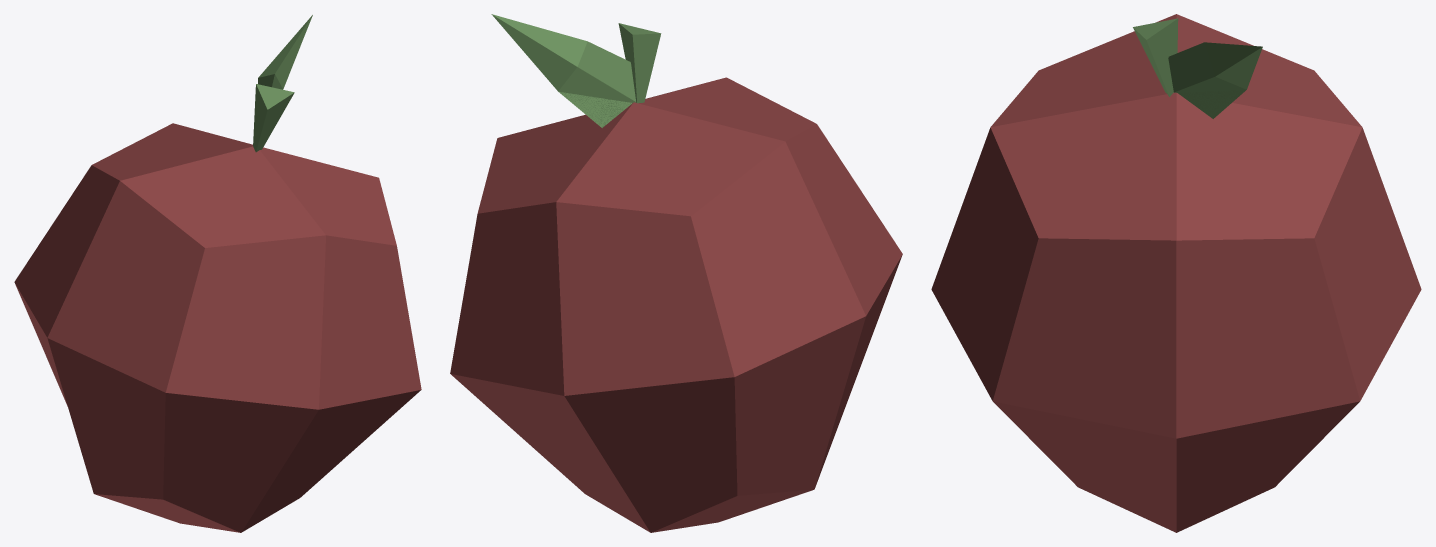
The model's file is apple.fbx.
The picture shows the model from 3 angles, left to right: view 1: azimuth 30°, elevation 25°; view 2: azimuth 150°, elevation 25°; view 3: azimuth 270°, elevation 25°; orthographic projection. The views are drawn at different scales.
Parts seen in each view (by area): view 1: Apple_GEO; view 2: Apple_GEO; view 3: Apple_GEO.
Boxes of the visible parts, bbox=[...] form: Apple_GEO: bbox=[14, 15, 421, 532]; Apple_GEO: bbox=[450, 14, 902, 532]; Apple_GEO: bbox=[931, 14, 1421, 532].
Bounding box in the file's own units: 0.0617 × 0.0764 × 0.0632.
Materials: 1 (1 with a texture image).
